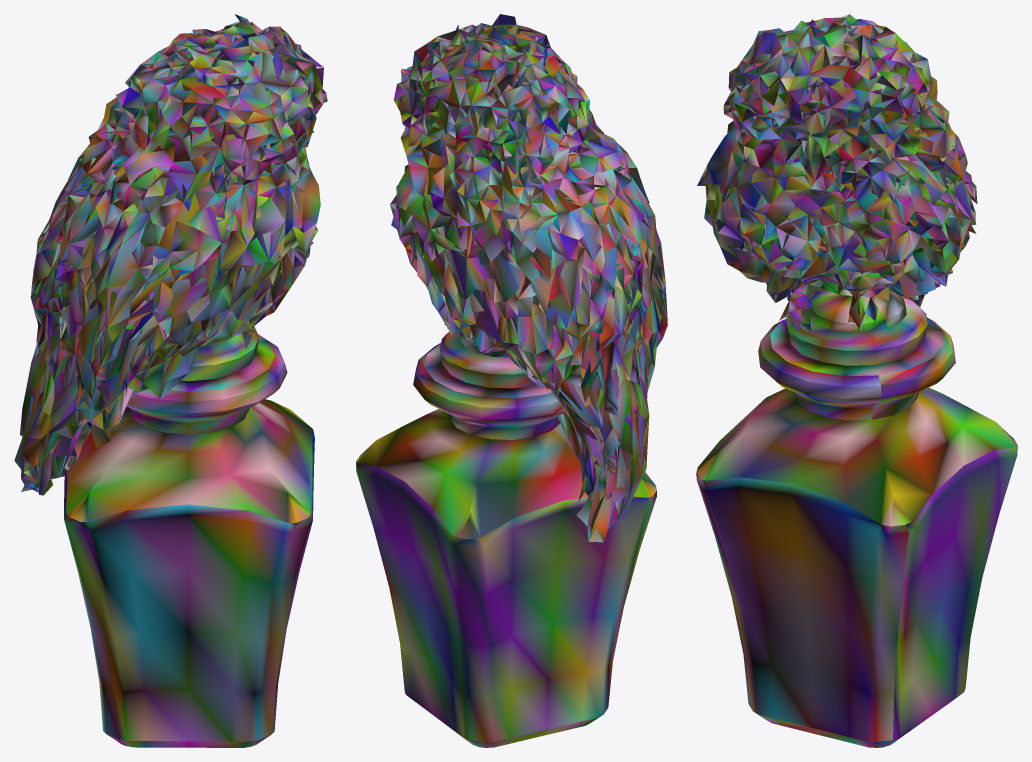
Rendered from Owl.fbx.
3 renders of one model, left to right at view 1: azimuth 30°, elevation 25°; view 2: azimuth 150°, elevation 25°; view 3: azimuth 270°, elevation 25°, orthographic. The views are drawn at different scales.
Parts seen in each view (by area): view 1: Owl; view 2: Owl; view 3: Owl.
Boxes of the visible parts, x1,y1,x2,y2 form: Owl: (14,14,327,747); Owl: (356,14,667,747); Owl: (696,14,1017,747).
Bounding box in the file's own units: 100 × 229 × 93.99.
